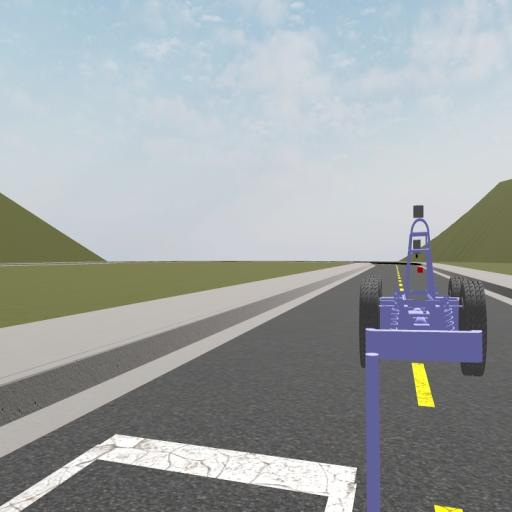ERP-42: (360, 205, 488, 376)
